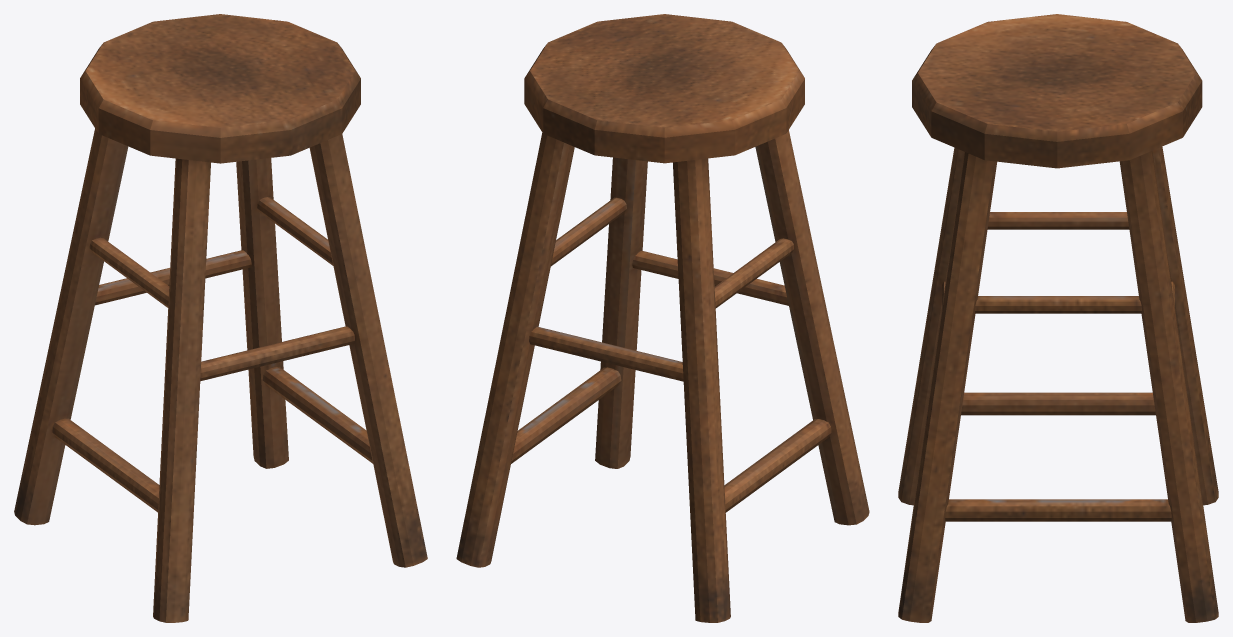
The model's file is StorageChair.fbx.
The picture shows the model from 3 angles, left to right: view 1: azimuth 30°, elevation 25°; view 2: azimuth 150°, elevation 25°; view 3: azimuth 270°, elevation 25°; orthographic projection. The views are drawn at different scales.
Visible parts, largest first — view 1: StorageChair_Low; view 2: StorageChair_Low; view 3: StorageChair_Low.
Boxes of the visible parts, box(x1,y1,x2,y2) form: StorageChair_Low: box(14, 14, 427, 622); StorageChair_Low: box(456, 14, 869, 622); StorageChair_Low: box(898, 14, 1218, 622).
Size of the model in its own units: 0.503 by 0.8474 by 0.5057.
